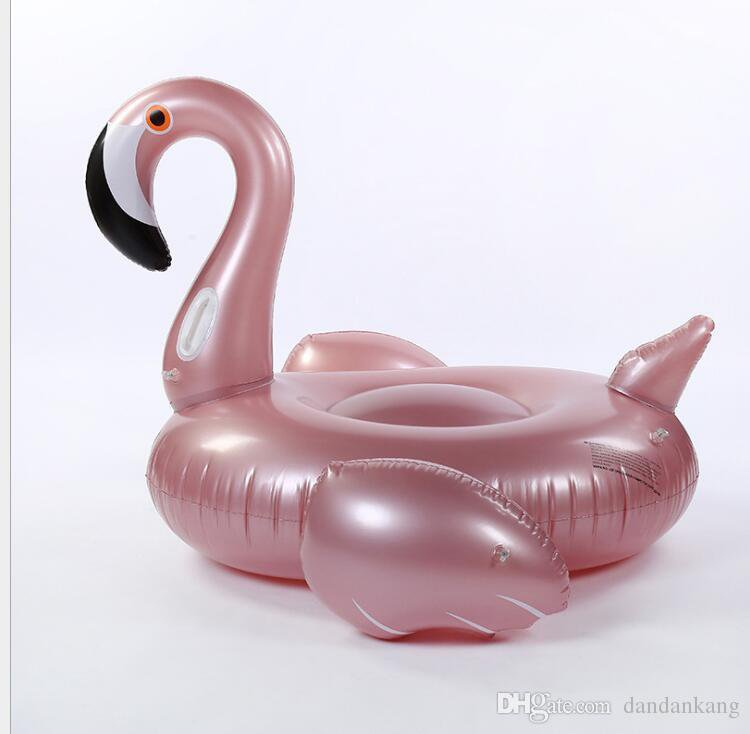Flamingo: (78, 73, 723, 648)
